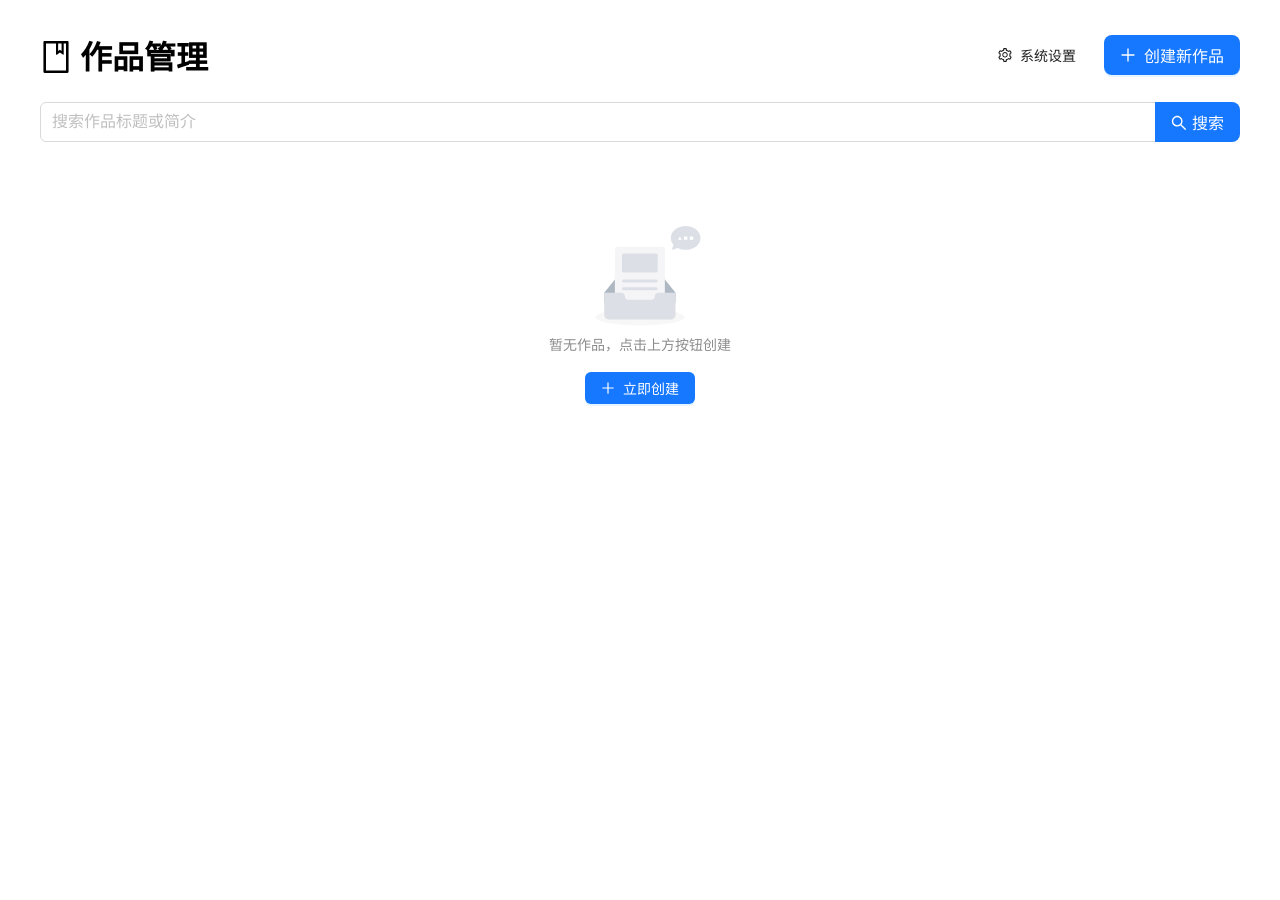
Scenario: DashboardPage › should open create modal when "创建新作品" button is clicked
The width and height of the screenshot is (1280, 900).
Click the button "创建新作品" at (1172, 55), box 1104,35 -> 1240,75
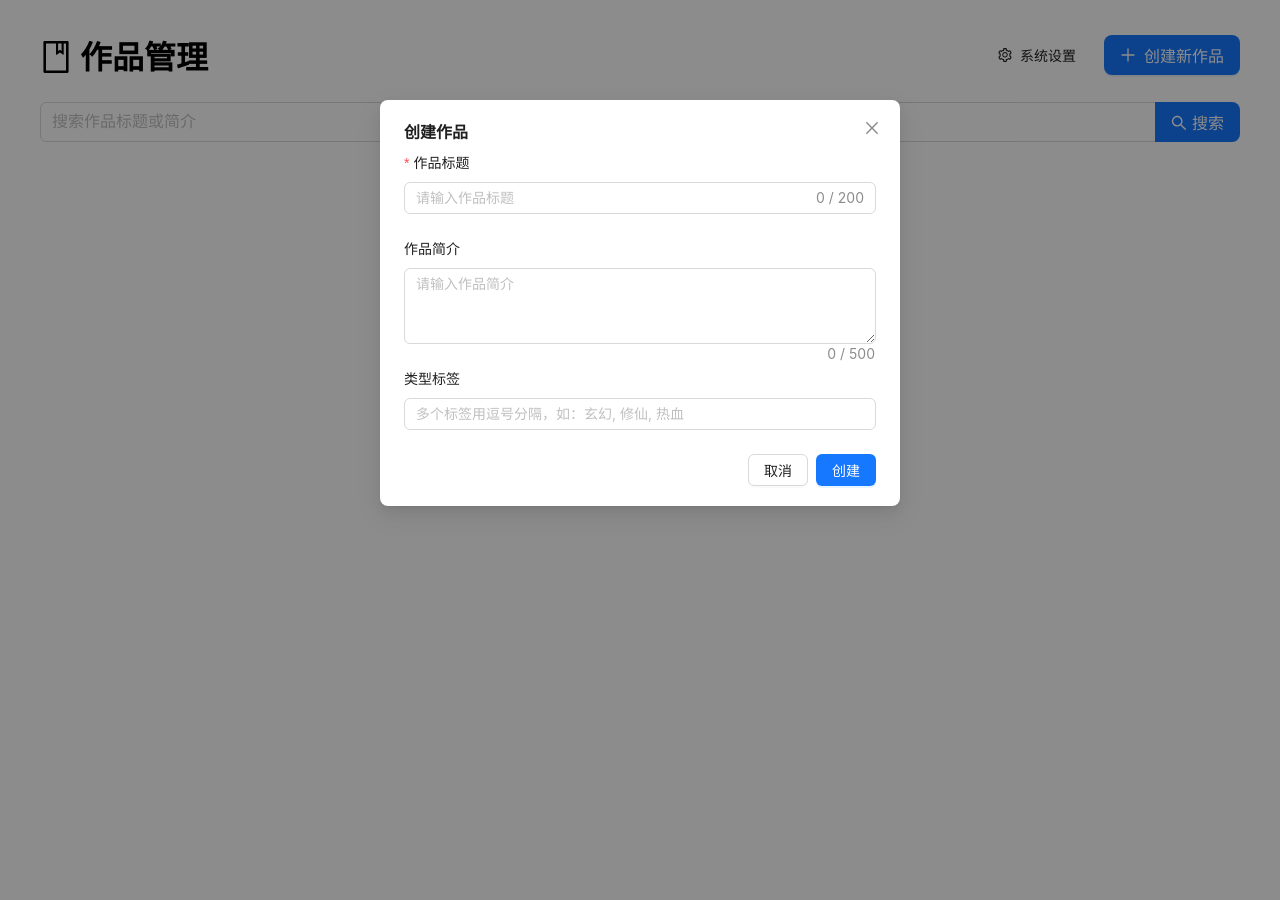
Expected: the text "创建新作品" is shown, 1144,43 -> 1224,67
Expected: the field labelled "作品标题" is shown, 416,187 -> 812,209
